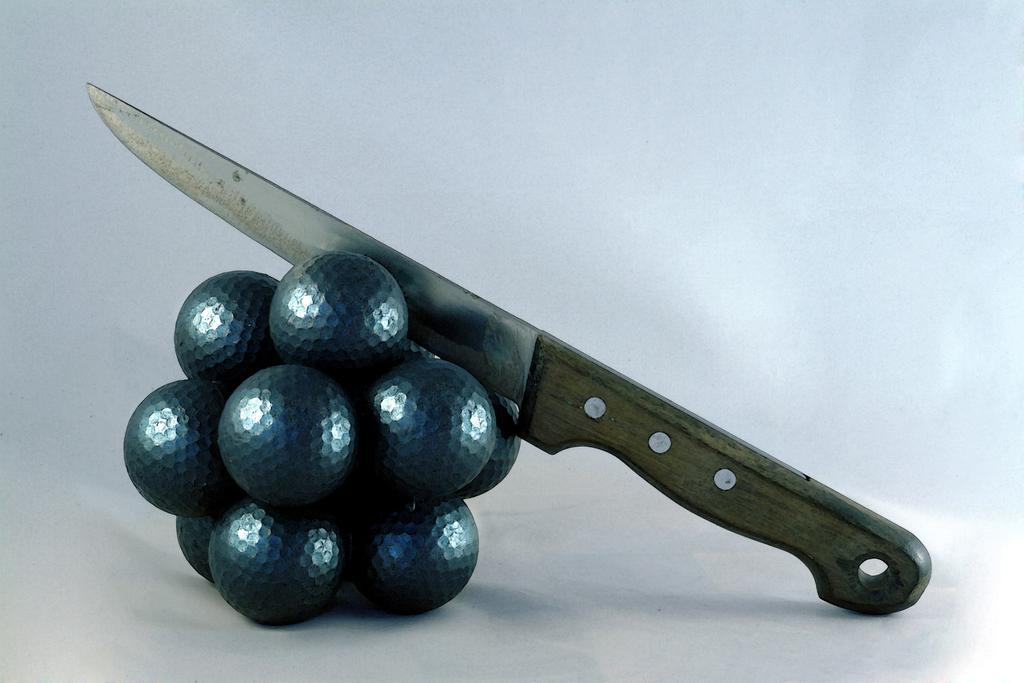Knife: (83, 81, 932, 616)
